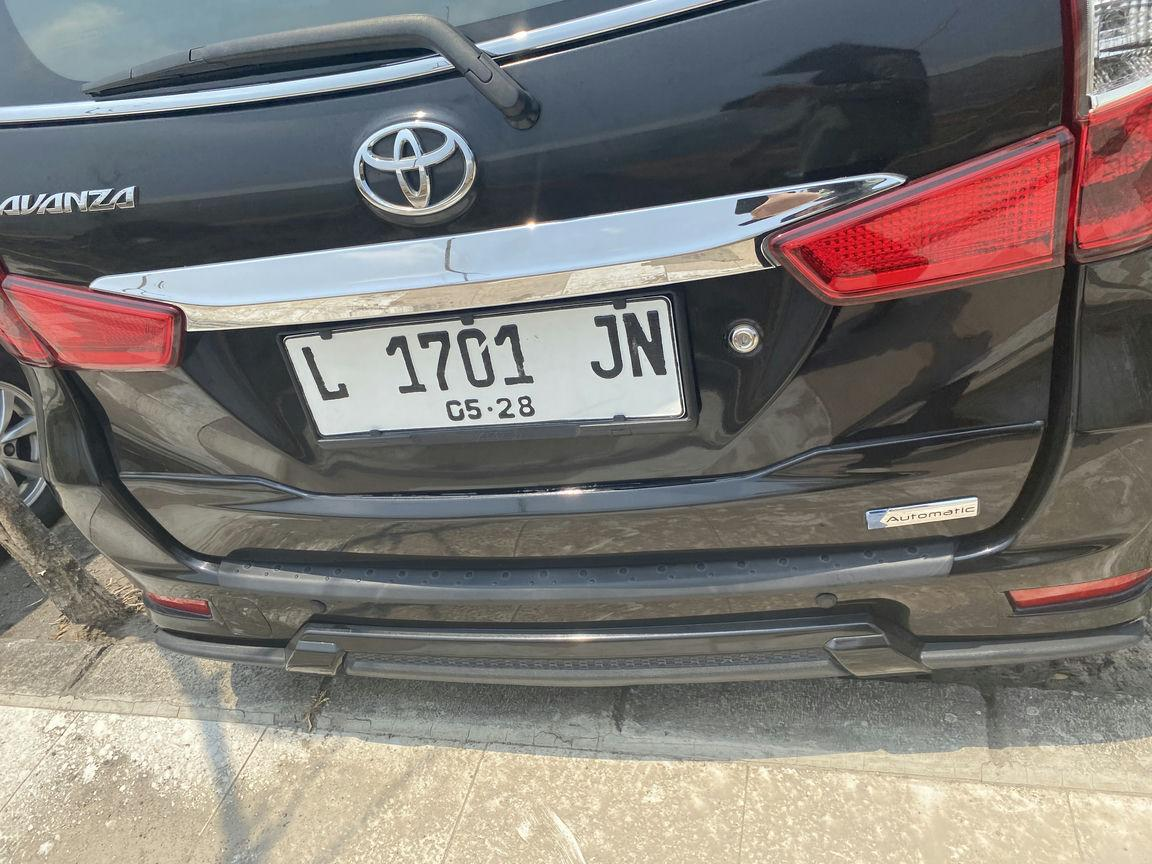plat: (285, 297, 686, 439)
